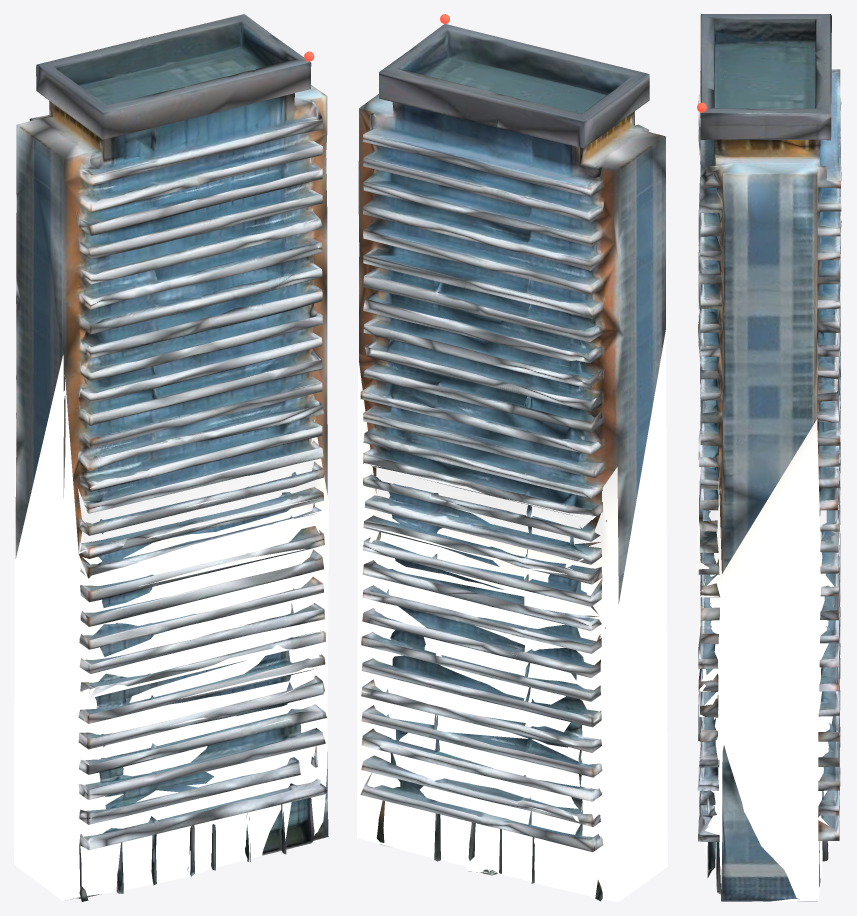
File: sky-warm.glb
The picture shows the model from 3 angles, left to right: view 1: azimuth 30°, elevation 25°; view 2: azimuth 150°, elevation 25°; view 3: azimuth 270°, elevation 25°; orthographic projection.
Visible parts, largest first — view 1: Body, Accent; view 2: Body, Accent; view 3: Body, Accent.
Part boxes in pixels (x1,y1,x2,y2): Body: [15, 14, 328, 901]; Accent: [14, 355, 328, 900]; Body: [358, 24, 665, 901]; Accent: [357, 328, 667, 901]; Body: [697, 14, 841, 901]; Accent: [696, 419, 842, 901].
Bounding box in the file's own units: 70.44 × 202 × 34.14.
Materials: 3 (1 with a texture image).
